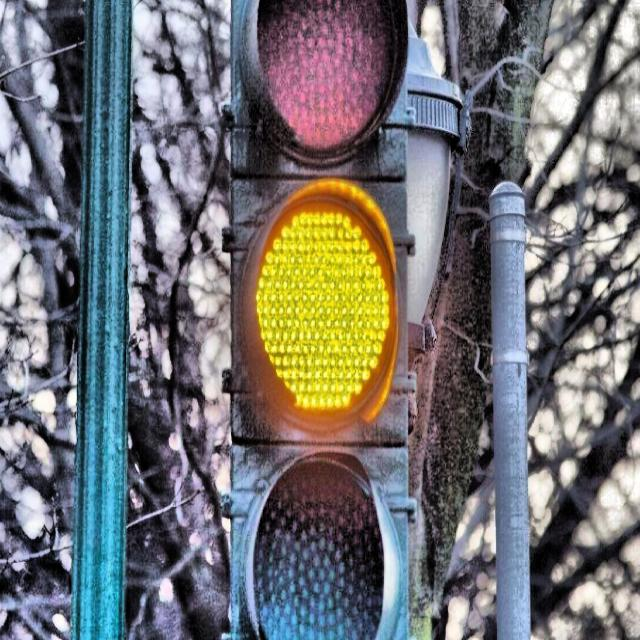yellow: (227, 0, 411, 640)
